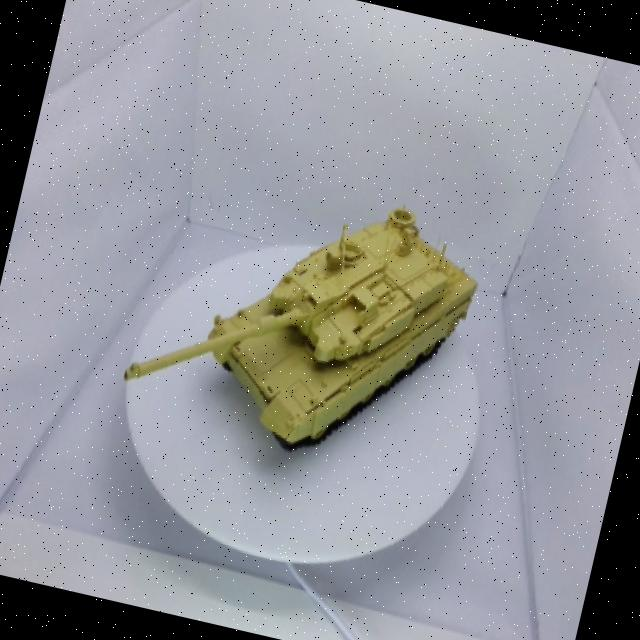korea tank: (87, 128, 514, 513)
